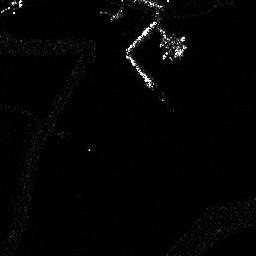ship: (169, 44, 185, 60)
